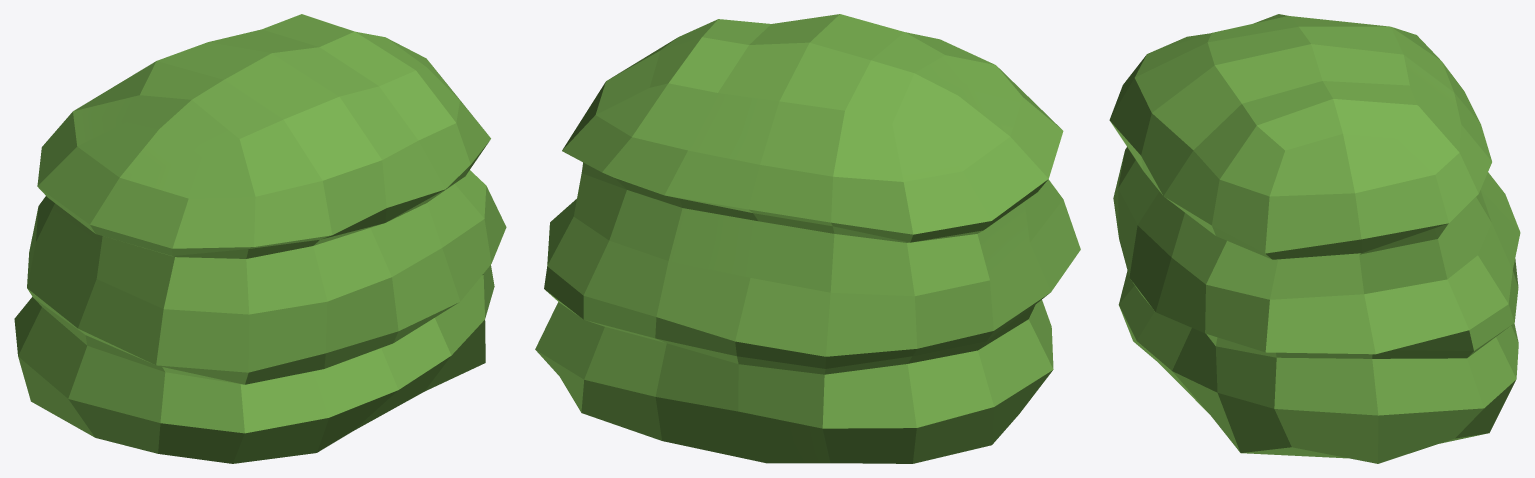
The model's file is Bush_1.glb.
3 renders of one model, left to right at view 1: azimuth 30°, elevation 25°; view 2: azimuth 150°, elevation 25°; view 3: azimuth 270°, elevation 25°, orthographic. The views are drawn at different scales.
Visible parts, largest first — view 1: Bush_1; view 2: Bush_1; view 3: Bush_1.
Part boxes in pixels (x1,y1,x2,y2): Bush_1: (14,14,506,463); Bush_1: (535,14,1080,463); Bush_1: (1109,14,1520,463).
Size of the model in its own units: 1.56 by 1.17 by 1.27.
